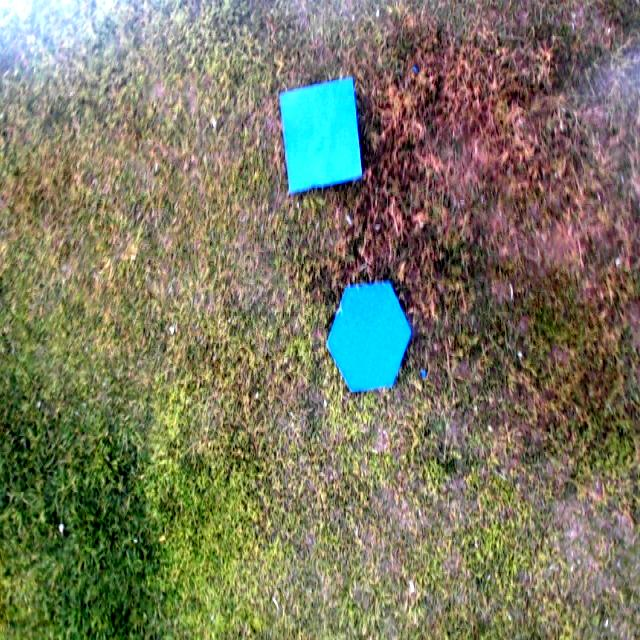blue_hexagon: (327, 280, 412, 393)
blue_square: (278, 77, 362, 200)
